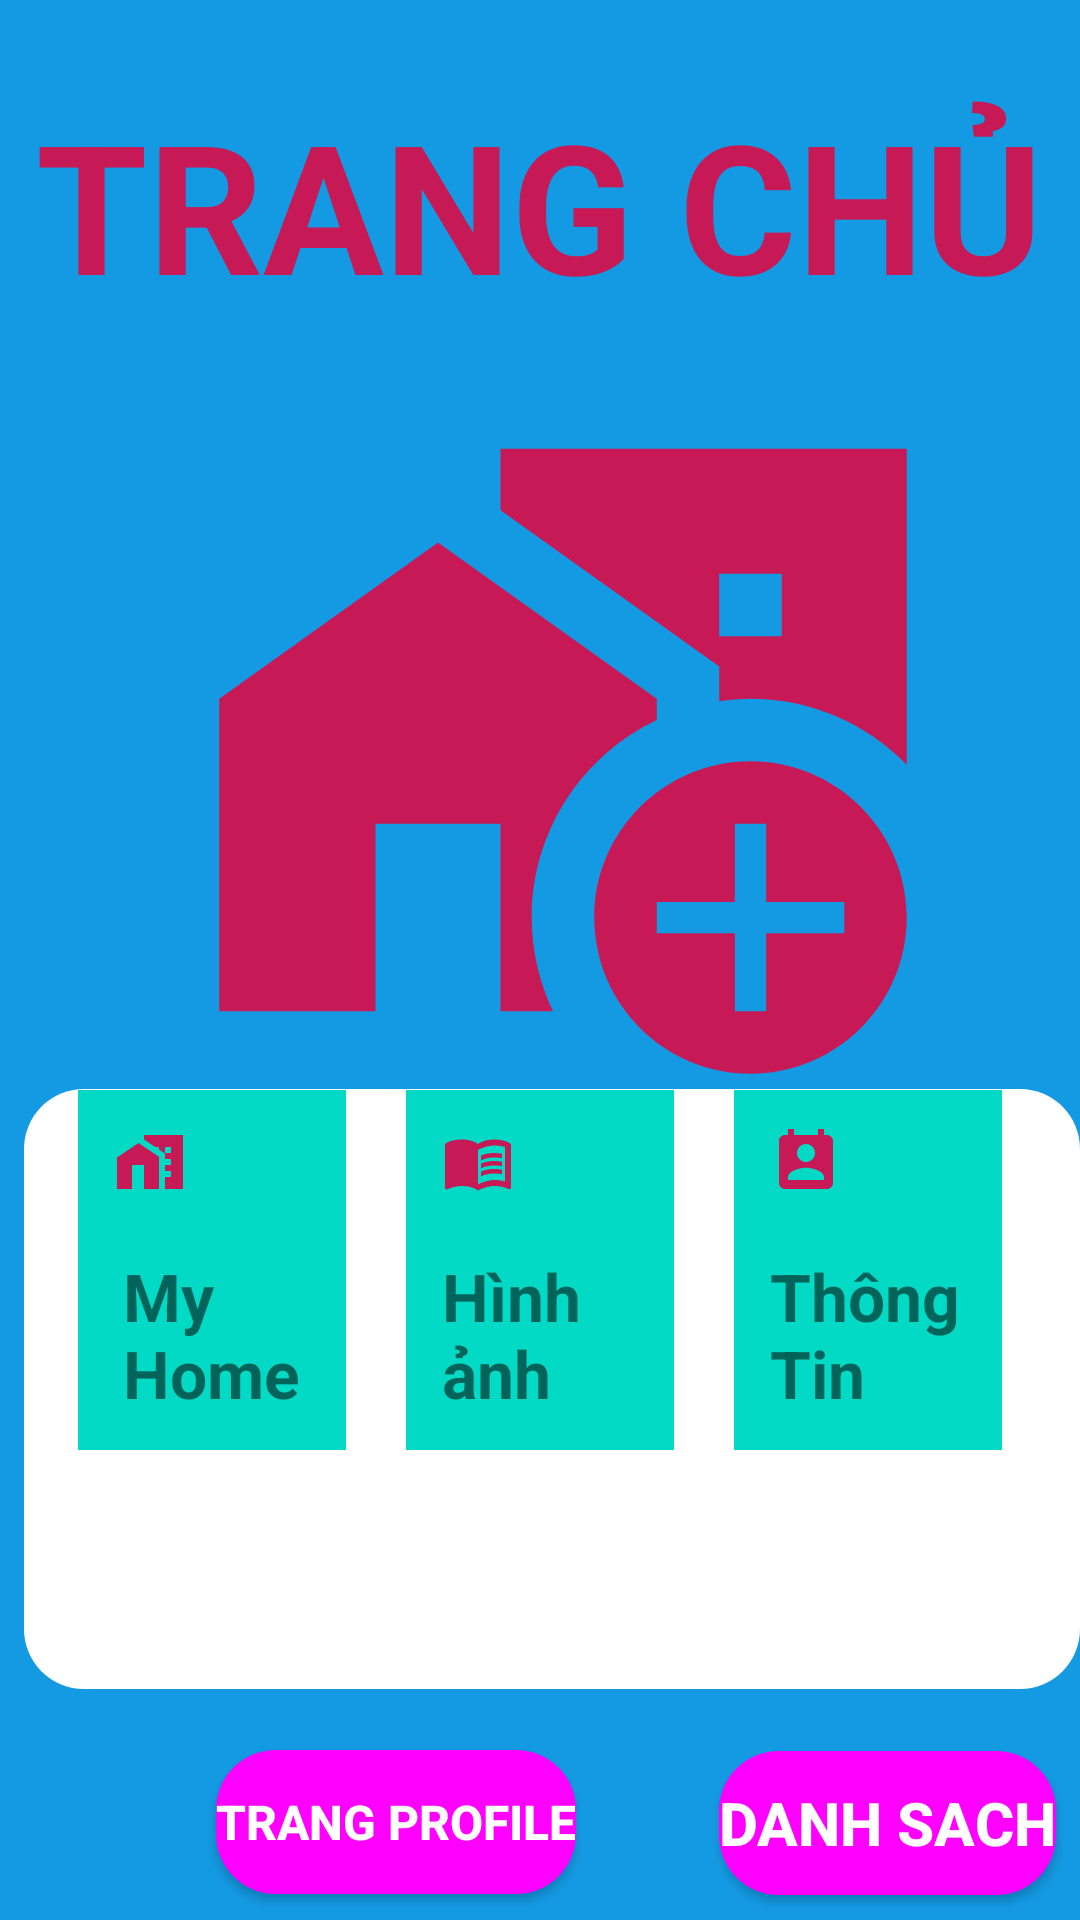

Where to tap for icons on this 1080×1920 app screen, as (x=x, y=y):
thongtin: (x=806, y=1159)
